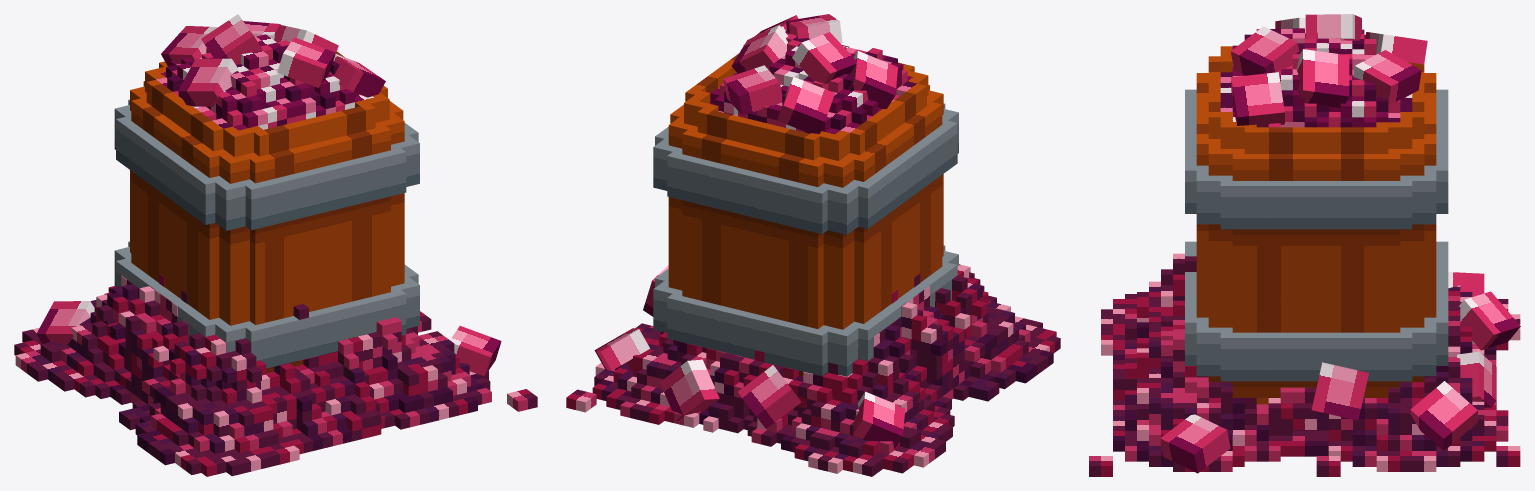
Rendered from gem_quantity_barrel.gltf.
The picture shows the model from 3 angles, left to right: view 1: azimuth 30°, elevation 25°; view 2: azimuth 150°, elevation 25°; view 3: azimuth 270°, elevation 25°; orthographic projection. The views are drawn at different scales.
Visible parts, largest first — view 1: barrel-Local, gem_pile-Local, barrel_gem01-Local, barrel_gem04-Local, barrel_gem06-Local, barrel_gem01$$(1)-Local, barrel_gem04$$(1)-Local, barrel_gem08-Local, barrel_gem02-Local, barrel_gem03-Local; view 2: barrel-Local, gem_pile-Local, barrel_gem09-Local, barrel_gem02-Local, barrel_gem02$$(1)-Local, barrel_gem06-Local, barrel_gem01$$(1)-Local, barrel_gem07-Local, barrel_gem01-Local, barrel_gem03-Local, barrel_gem05-Local, barrel_gem04-Local; view 3: barrel-Local, gem_pile-Local, barrel_gem05-Local, barrel_gem04$$(1)-Local, barrel_gem03-Local, barrel_gem08-Local, barrel_gem03$$(1)-Local, barrel_gem04-Local, barrel_gem02$$(1)-Local, barrel_gem07-Local, barrel_gem09-Local, barrel_gem06-Local (+2 smaller).
Part boxes in pixels (<box>): barrel-Local: <box>114,34,419,373</box>; gem_pile-Local: <box>14,273,537,476</box>; barrel_gem01-Local: <box>178,58,238,106</box>; barrel_gem04-Local: <box>277,37,335,87</box>; barrel_gem06-Local: <box>201,14,262,64</box>; barrel_gem01$$(1)-Local: <box>36,301,94,344</box>; barrel_gem04$$(1)-Local: <box>450,326,501,376</box>; barrel_gem08-Local: <box>329,54,385,97</box>; barrel_gem02-Local: <box>161,26,217,66</box>; barrel_gem03-Local: <box>274,25,338,53</box>; barrel-Local: <box>653,30,958,376</box>; gem_pile-Local: <box>566,264,1060,476</box>; barrel_gem09-Local: <box>660,359,719,421</box>; barrel_gem02-Local: <box>777,77,834,133</box>; barrel_gem02$$(1)-Local: <box>738,365,801,428</box>; barrel_gem06-Local: <box>792,32,856,83</box>; barrel_gem01$$(1)-Local: <box>853,391,905,449</box>; barrel_gem07-Local: <box>723,65,782,115</box>; barrel_gem01-Local: <box>848,51,897,108</box>; barrel_gem03-Local: <box>731,25,787,73</box>; barrel_gem05-Local: <box>594,328,649,370</box>; barrel_gem04-Local: <box>786,14,842,43</box>; barrel-Local: <box>1185,28,1448,404</box>; gem_pile-Local: <box>1089,253,1520,476</box>; barrel_gem05-Local: <box>1410,381,1477,450</box>; barrel_gem04$$(1)-Local: <box>1160,414,1230,473</box>; barrel_gem03-Local: <box>1296,49,1349,107</box>; barrel_gem08-Local: <box>1231,72,1284,127</box>; barrel_gem03$$(1)-Local: <box>1311,362,1368,420</box>; barrel_gem04-Local: <box>1230,26,1299,75</box>; barrel_gem02$$(1)-Local: <box>1458,291,1520,350</box>; barrel_gem07-Local: <box>1353,50,1421,105</box>; barrel_gem09-Local: <box>1457,351,1496,409</box>; barrel_gem06-Local: <box>1305,14,1361,40</box>.
Size of the model in its own units: 37.34 by 34.43 by 36.06.
Materials: 15 (15 with a texture image).
